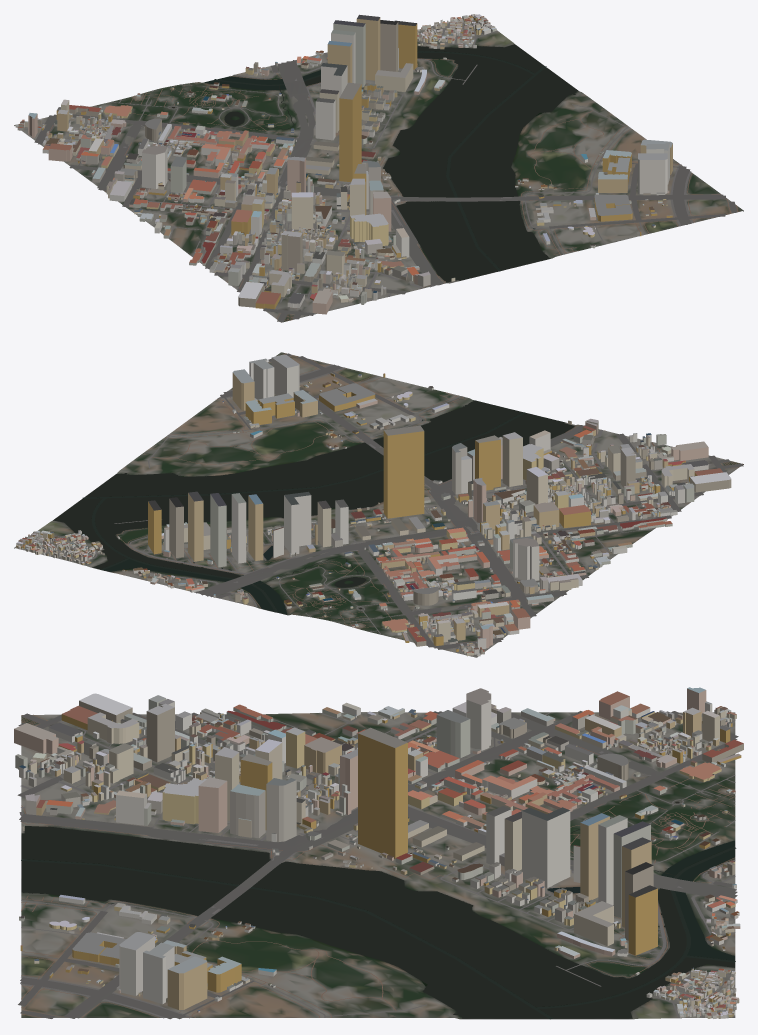
The picture shows the model from 3 angles, top to bottom: view 1: azimuth 30°, elevation 25°; view 2: azimuth 150°, elevation 25°; view 3: azimuth 270°, elevation 25°; orthographic projection. The views are drawn at different scales.
Visible parts, largest first — view 1: buildings, ground, water, roads; view 2: buildings, ground, water, roads; view 3: buildings, ground, water, roads.
Boxes of the visible parts, bbox=[...] form: buildings: bbox=[15, 14, 672, 314]; ground: bbox=[14, 19, 743, 322]; water: bbox=[172, 44, 577, 282]; roads: bbox=[24, 21, 738, 322]; buildings: bbox=[16, 354, 731, 656]; ground: bbox=[14, 352, 743, 657]; water: bbox=[53, 400, 574, 614]; roads: bbox=[29, 353, 743, 656]; buildings: bbox=[14, 687, 743, 1018]; ground: bbox=[21, 712, 735, 1019]; water: bbox=[21, 741, 736, 1019]; roads: bbox=[17, 711, 738, 1019].
Bounding box in the file's own units: 1452 × 248 × 1431.
